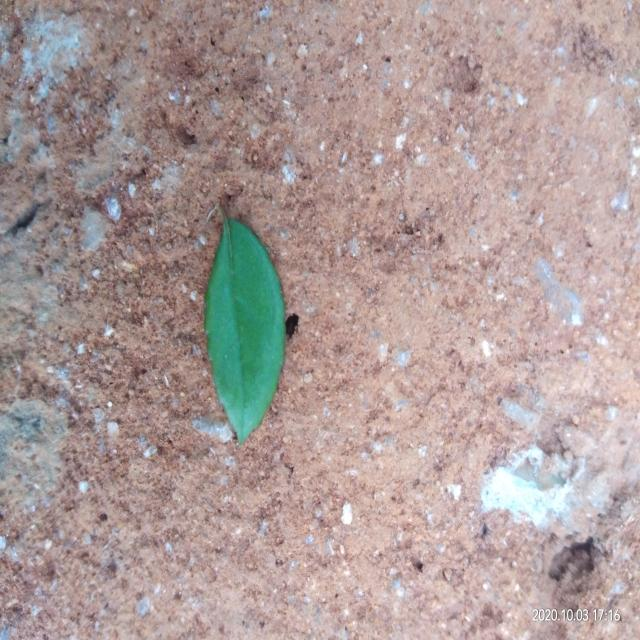rose: (205, 205, 285, 445)
